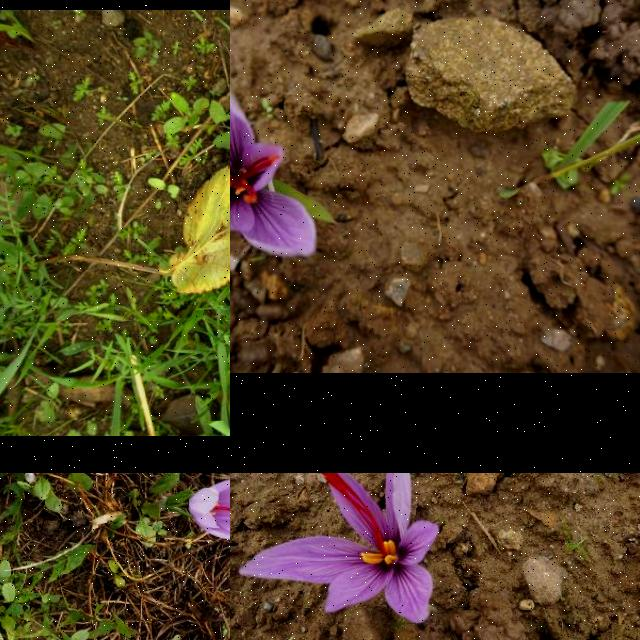flower: (240, 473, 440, 623), (230, 90, 316, 256), (188, 477, 230, 540)
